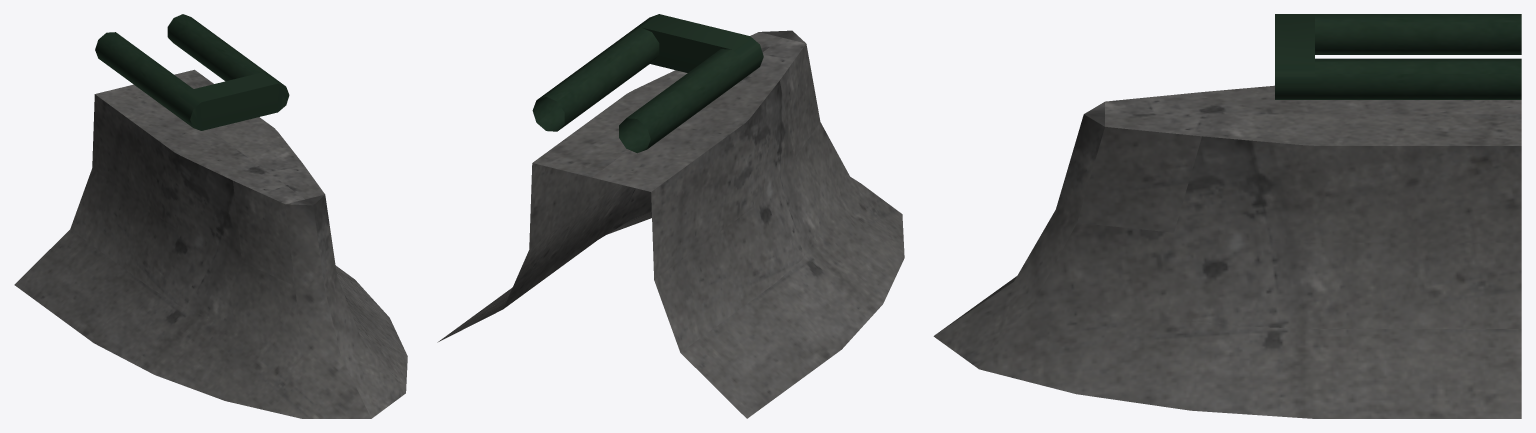
File: 匝道墩.FBX
The picture shows the model from 3 angles, left to right: view 1: azimuth 30°, elevation 25°; view 2: azimuth 150°, elevation 25°; view 3: azimuth 270°, elevation 25°; orthographic projection. The views are drawn at different scales.
Visible parts, largest first — view 1: 对象001; view 2: 对象001; view 3: 对象001.
Part boxes in pixels (x1=…): 对象001: x1=14, y1=14, x2=407, y2=418; 对象001: x1=437, y1=14, x2=904, y2=418; 对象001: x1=933, y1=14, x2=1521, y2=418.
Size of the model in its own units: 140 by 117 by 210.
